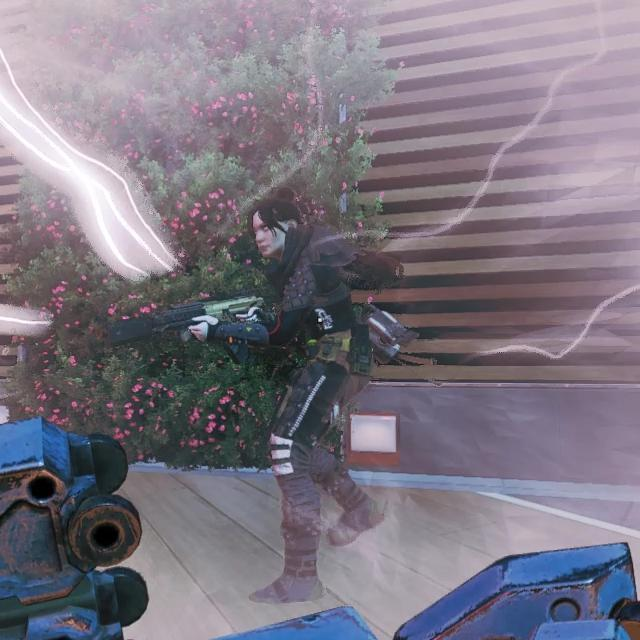avatar: (242, 185, 391, 609)
